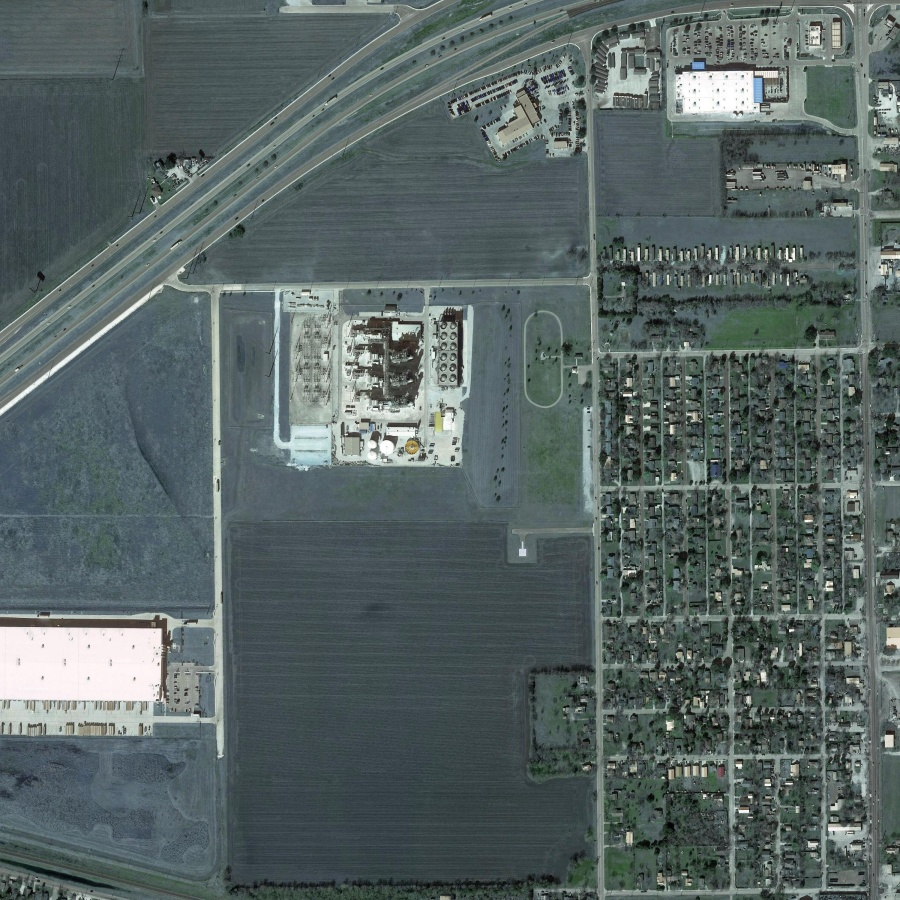PowerPlant: (276, 284, 470, 473)
